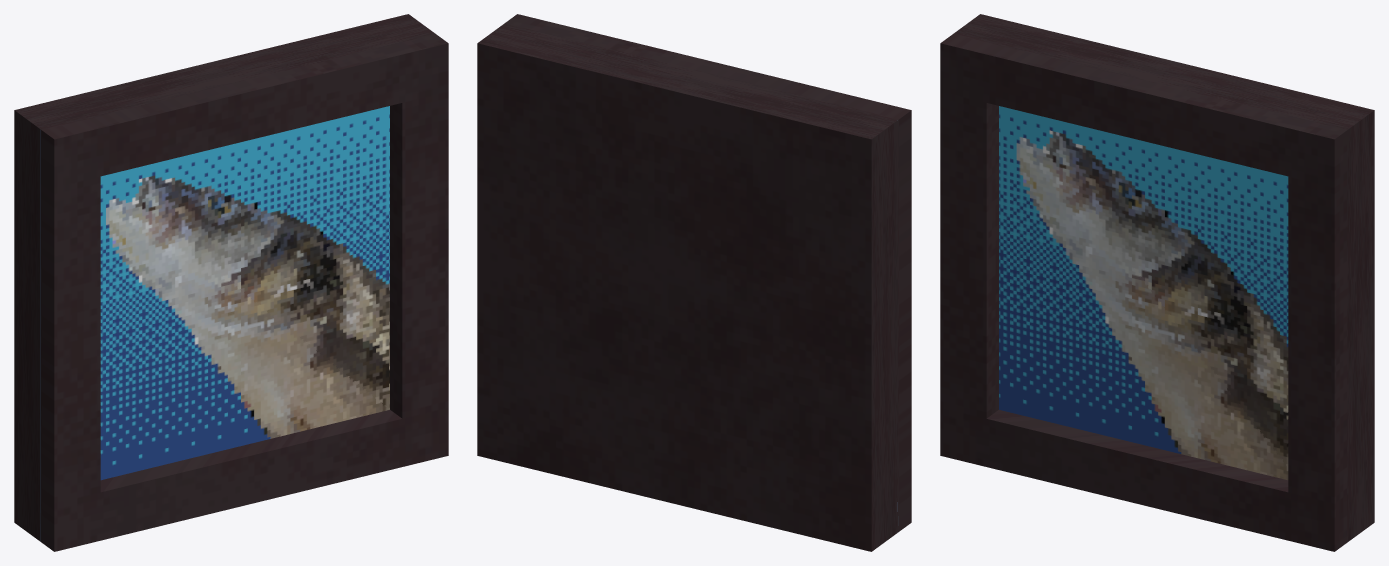
Rendered from prop_photo3.obj.
3 views of the same model, side by side, from view 1: azimuth 30°, elevation 25°; view 2: azimuth 150°, elevation 25°; view 3: azimuth 330°, elevation 25° (orthographic).
Parts seen in each view (by area): view 1: Photo3; view 2: Photo3; view 3: Photo3.
Part boxes in pixels (<box>): Photo3: <box>14,14,448,551</box>; Photo3: <box>477,14,911,551</box>; Photo3: <box>940,14,1374,551</box>.
Bounding box in the file's own units: 2 × 2 × 0.3518.
